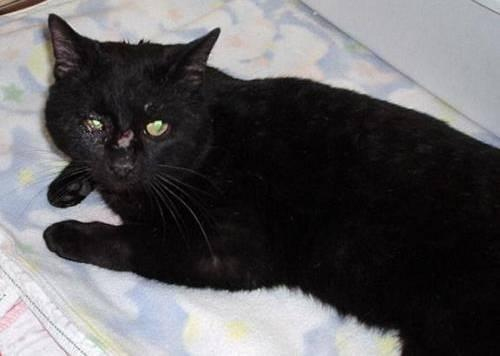cat: (42, 15, 500, 356)
